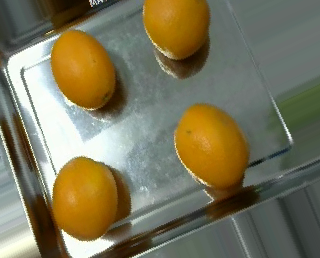Orange: (174, 102, 250, 189), (51, 156, 116, 240), (50, 29, 115, 109), (141, 1, 210, 59)
